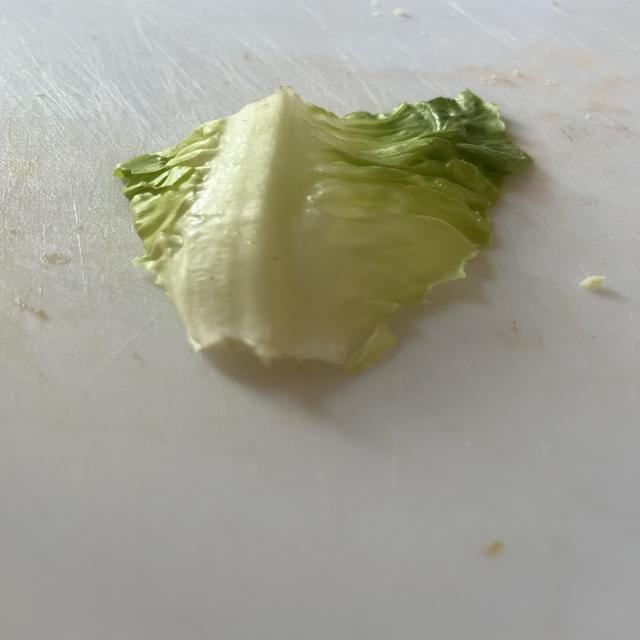lettuce: (113, 87, 530, 371)
